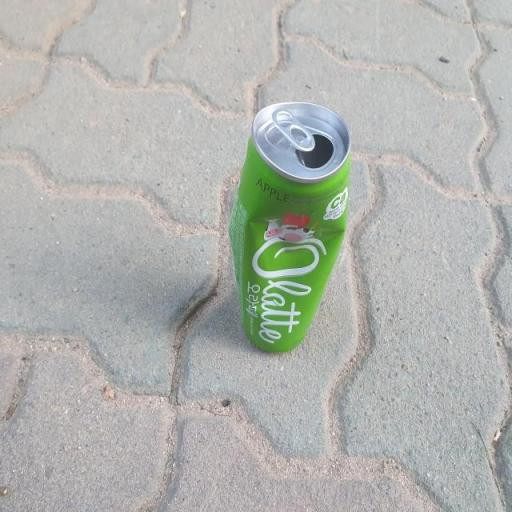metal: (222, 94, 362, 370)
